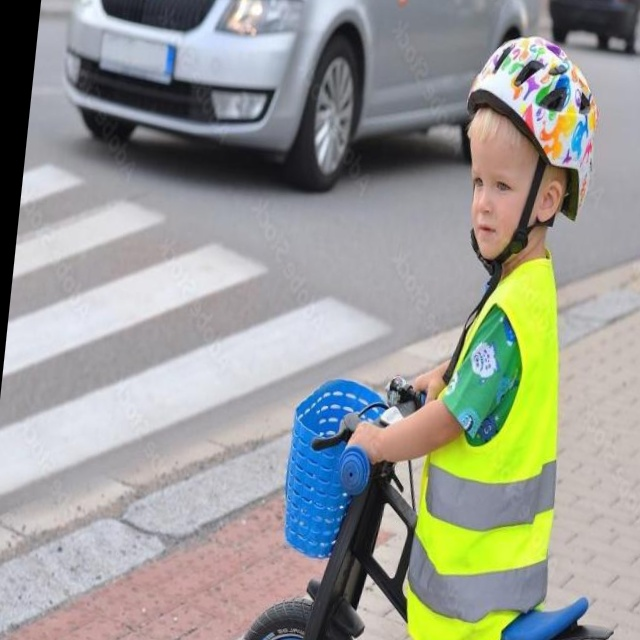Con_Chaleco: (393, 254, 586, 640)
